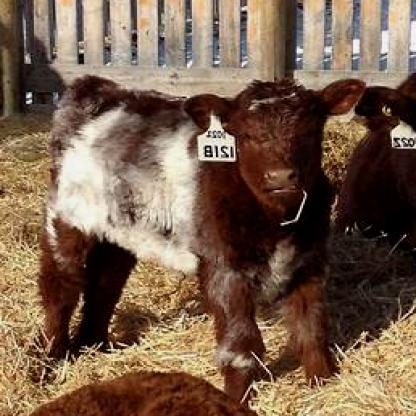cow: (16, 77, 363, 394), (338, 67, 415, 262)
